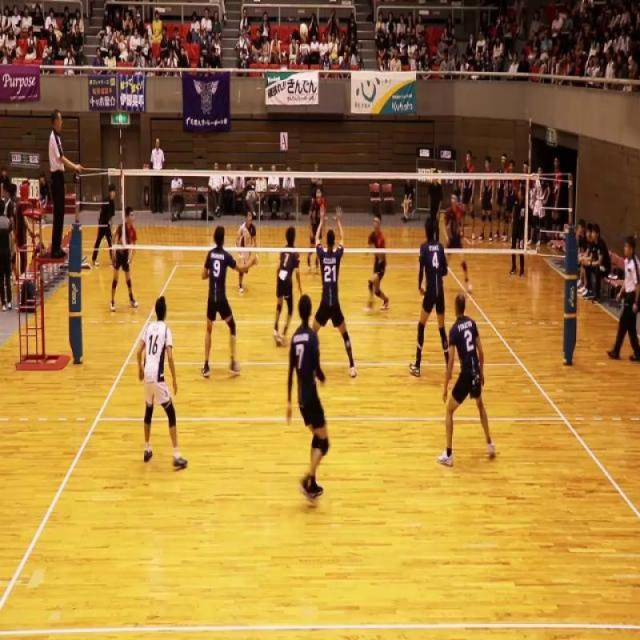volleyball: (299, 20, 308, 43)
